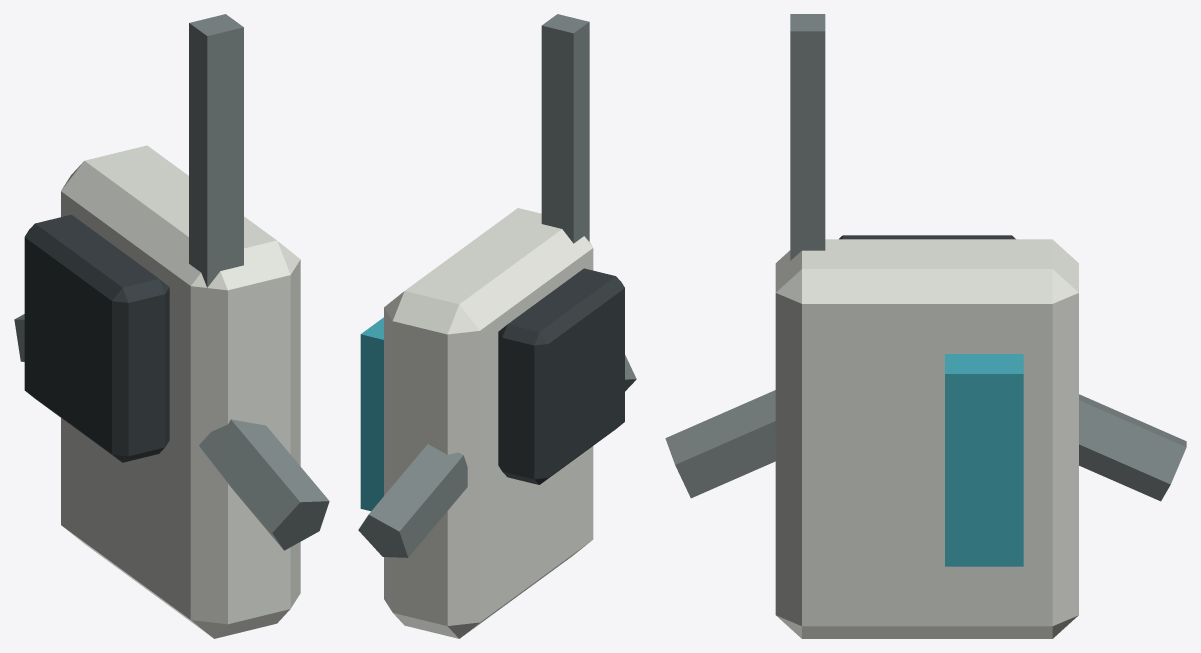
File: person_tool_powerbeam.obj
The picture shows the model from 3 angles, left to right: view 1: azimuth 30°, elevation 25°; view 2: azimuth 150°, elevation 25°; view 3: azimuth 270°, elevation 25°; orthographic projection. The views are drawn at different scales.
Visible parts, largest first — view 1: person_tool_powerbeam; view 2: person_tool_powerbeam; view 3: person_tool_powerbeam.
Part boxes in pixels (x1,y1,x2,y2): person_tool_powerbeam: (14,14,329,638); person_tool_powerbeam: (358,14,636,638); person_tool_powerbeam: (665,14,1186,638).
Bounding box in the file's own units: 0.08 × 0.223 × 0.1788.
